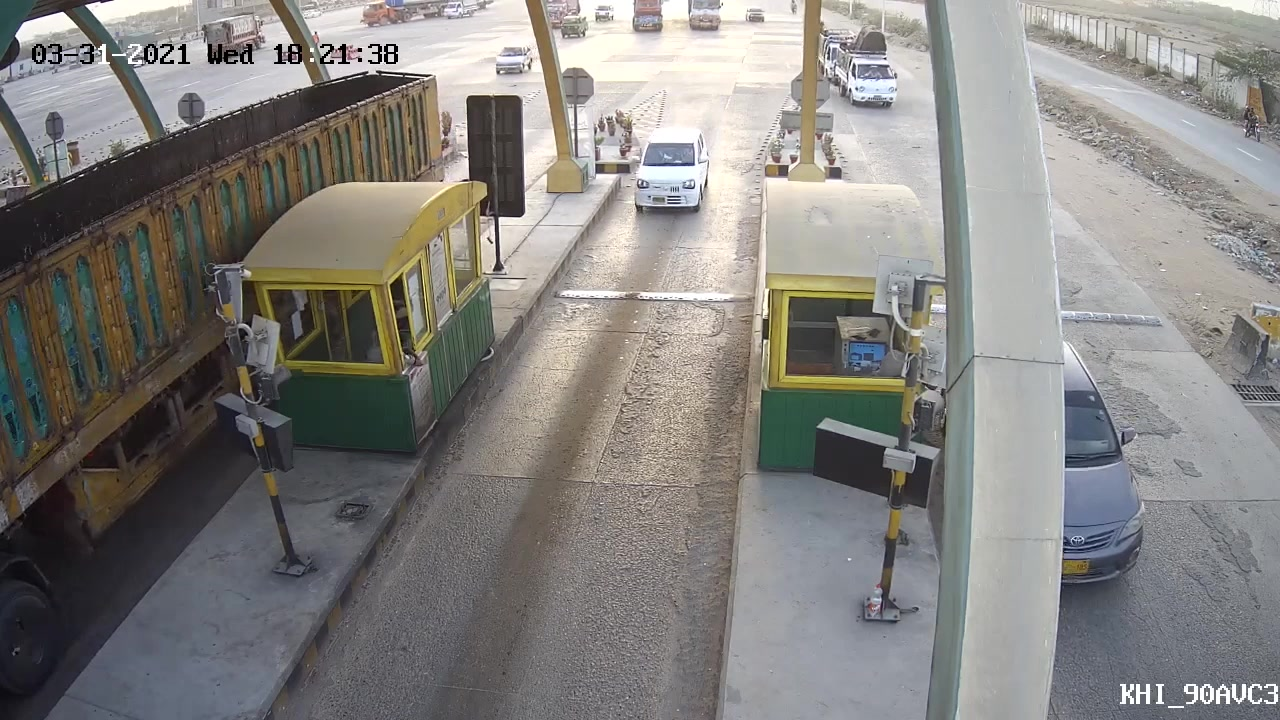F1: (627, 118, 718, 213)
